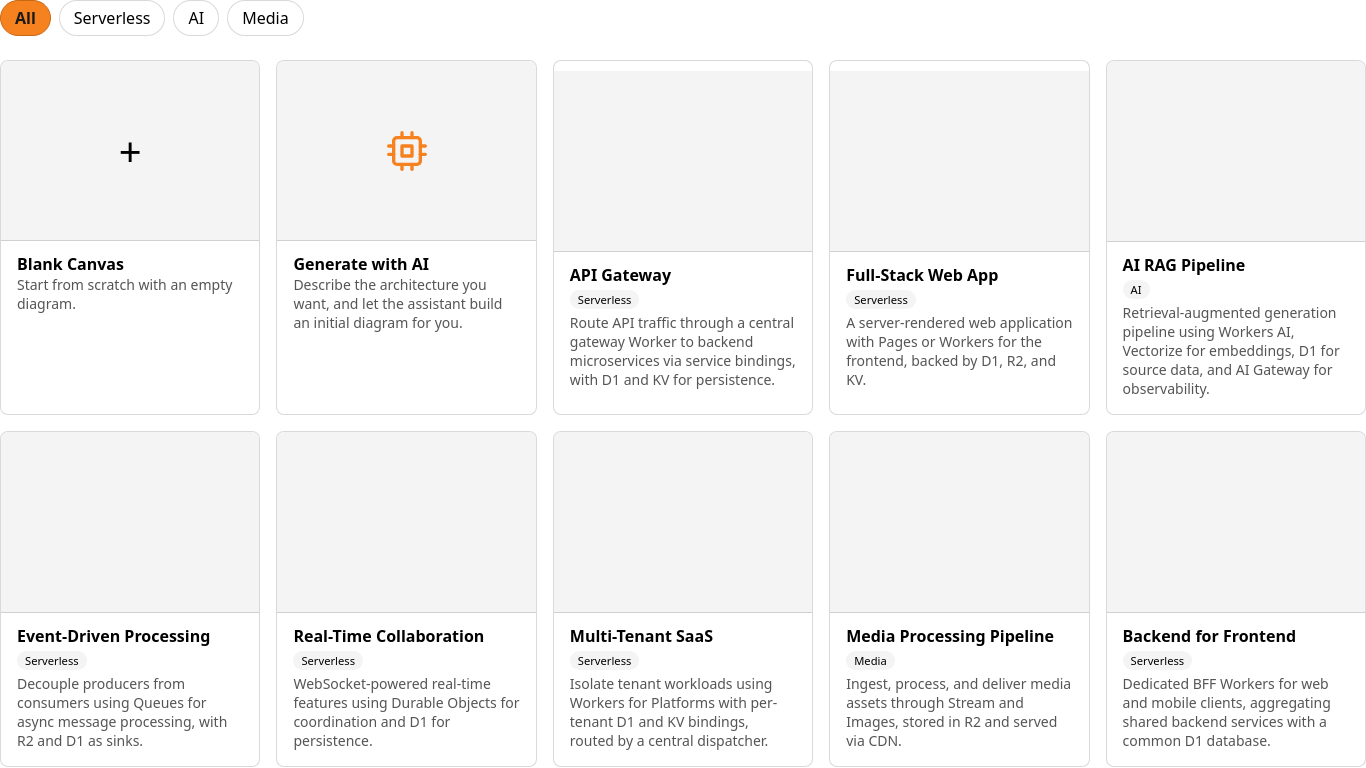
BlueprintGallery › opens the create modal for the blank canvas
Click the button "+ Blank Canvas Start from scratch with an empty diagram.". click: (130, 238)
box: [0,60,260,415]
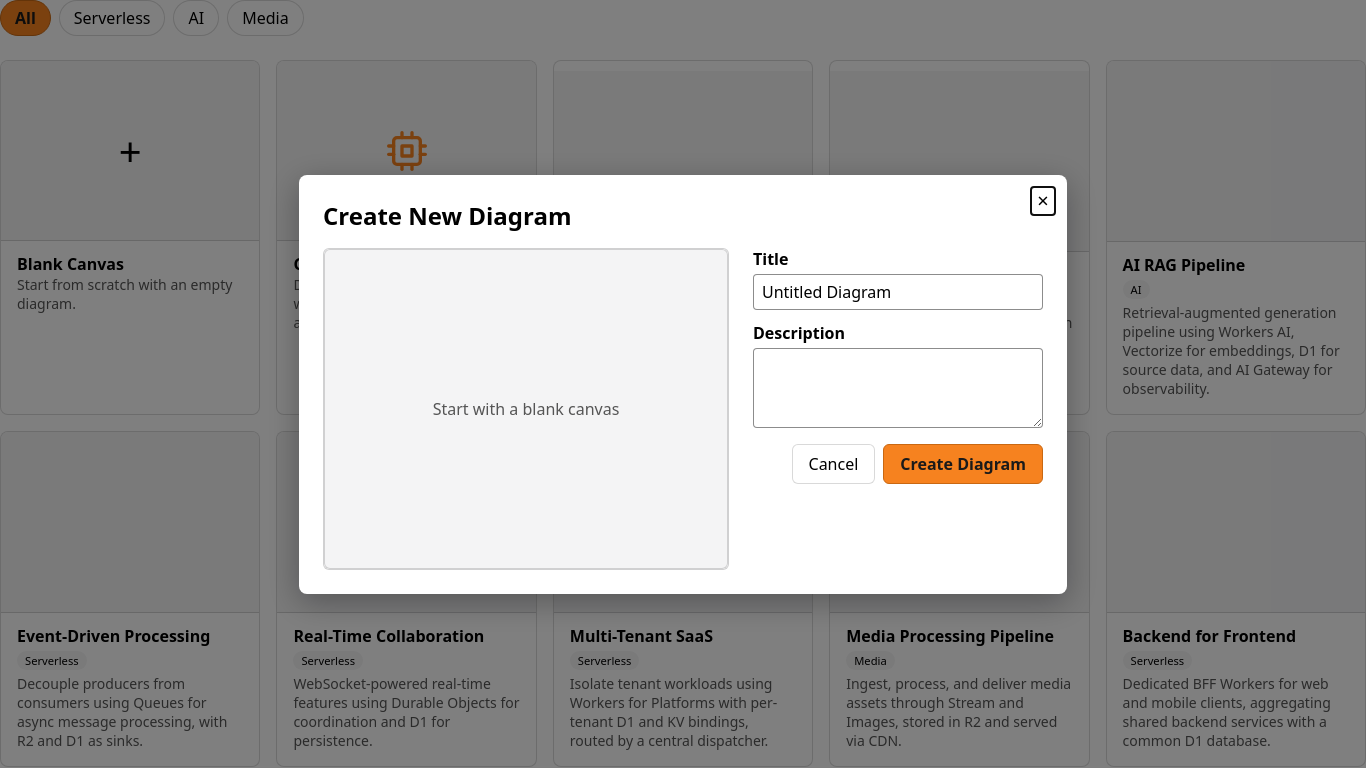
expect the dialog "Create New Diagram" is shown: met, box [299,174,1067,594]
